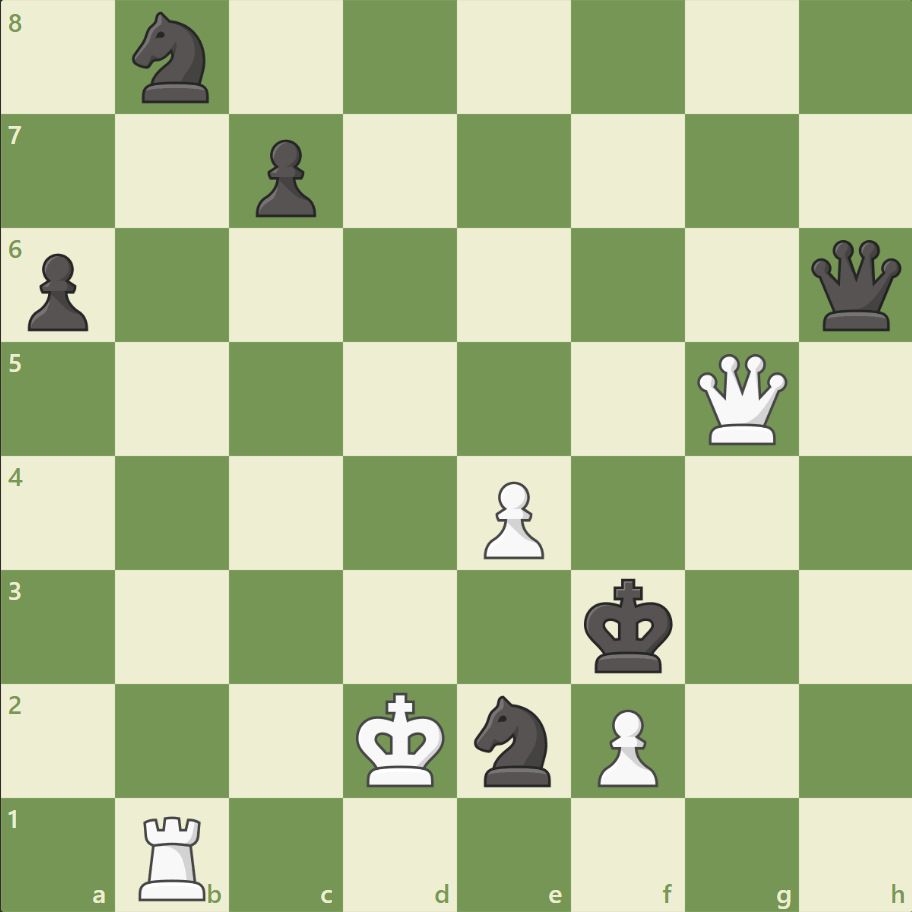K: (351, 685, 451, 793)
P: (474, 473, 549, 564), (588, 700, 662, 791)
Q: (691, 349, 790, 449)
R: (133, 806, 215, 904)
k: (579, 571, 679, 679)
n: (124, 7, 222, 110), (465, 688, 562, 791)
p: (247, 132, 322, 223), (20, 246, 95, 337)
q: (805, 236, 904, 335)
